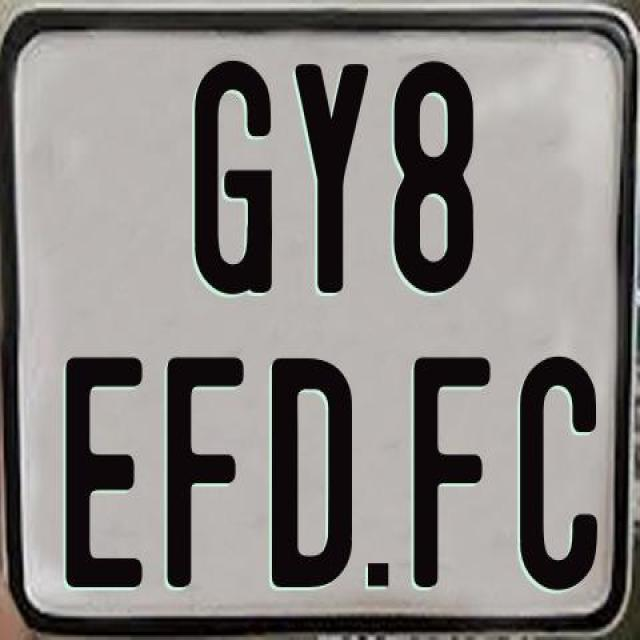8: (392, 58, 476, 292)
C: (516, 356, 598, 594)
D: (268, 354, 354, 588)
E: (64, 356, 143, 590)
F: (409, 357, 492, 589), (167, 354, 244, 588)
G: (191, 56, 276, 299)
Y: (292, 63, 372, 294)
